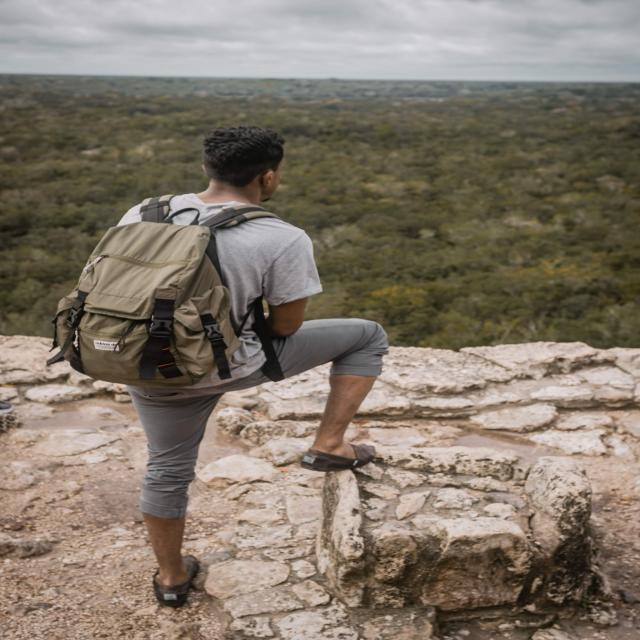backpack: (55, 190, 283, 390)
